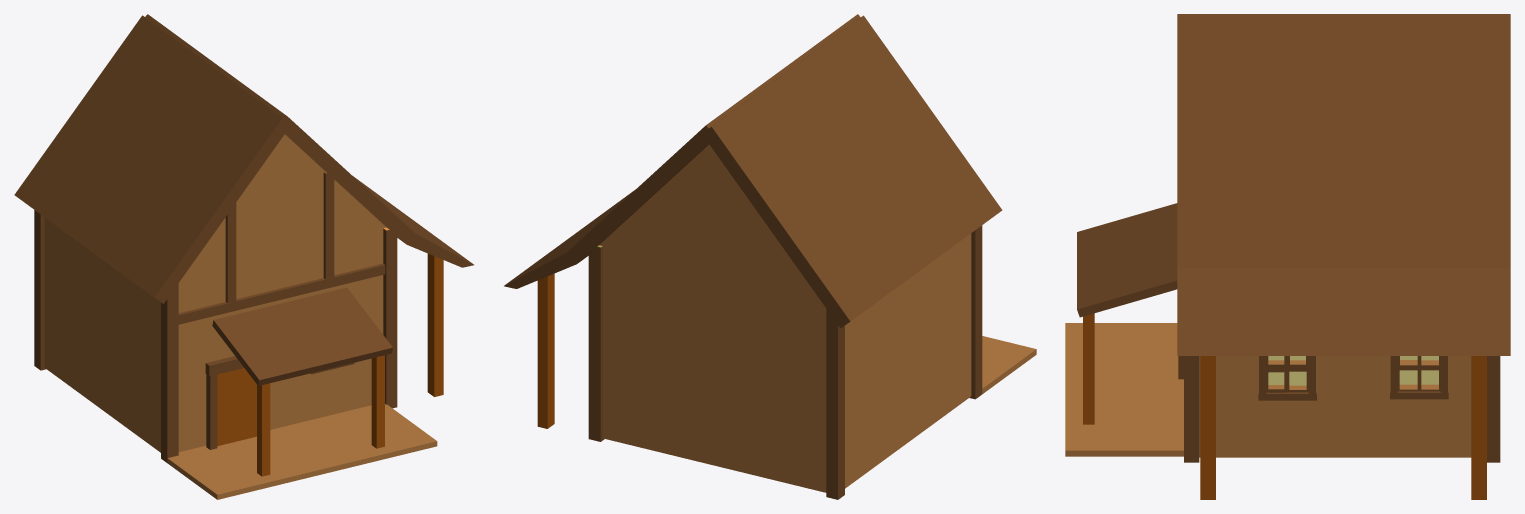
The model's file is House.fbx.
The picture shows the model from 3 angles, left to right: view 1: azimuth 30°, elevation 25°; view 2: azimuth 150°, elevation 25°; view 3: azimuth 270°, elevation 25°; orthographic projection. The views are drawn at different scales.
Parts seen in each view (by area): view 1: Plane; view 2: Plane; view 3: Plane.
Boxes of the visible parts, bbox=[...] form: Plane: bbox=[14, 14, 473, 499]; Plane: bbox=[504, 14, 1036, 499]; Plane: bbox=[1065, 14, 1510, 499].
Bounding box in the file's own units: 1709 × 1661 × 1733.
